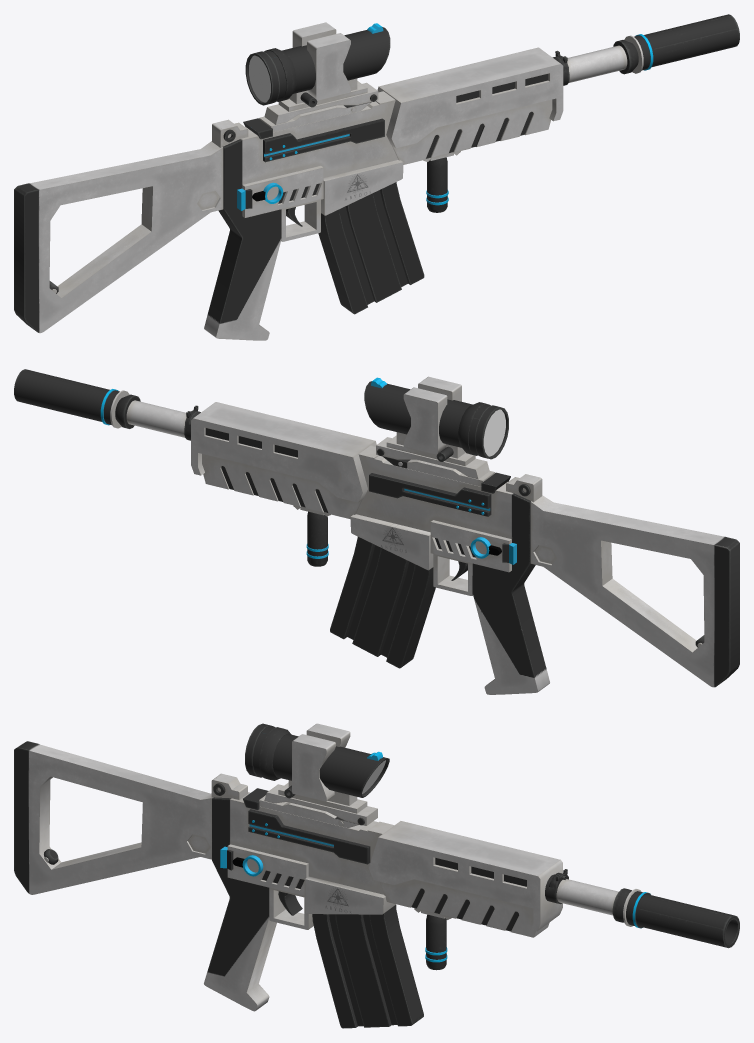
3 views of the same model, one above another, from view 1: azimuth 30°, elevation 25°; view 2: azimuth 150°, elevation 25°; view 3: azimuth 330°, elevation 25° (orthographic).
Visible parts, largest first — view 1: Box007, Box002, Front Part Up, Box006, Shooting Part, Front Part Down, Cylinder002, Cylinder003, Box020, Box011, Box017, Box018 (+4 smaller); view 2: Box007, Box002, Front Part Up, Box006, Shooting Part, Front Part Down, Cylinder002, Cylinder003, Box021, Box024, Box017, Box018 (+4 smaller); view 3: Box007, Box002, Front Part Up, Box006, Shooting Part, Front Part Down, Cylinder002, Box020, Box011, Cylinder003, Box017, Cylinder001 (+4 smaller).
Part boxes in pixels (x1,y1,x2,y2): Box007: (204,91,403,340); Box002: (14,141,223,333); Front Part Up: (377,47,563,148); Box006: (318,182,424,314); Shooting Part: (552,14,739,85); Front Part Down: (392,99,552,164); Cylinder002: (282,27,390,93); Cylinder003: (245,48,296,105); Box020: (263,118,384,162); Box011: (307,33,350,100); Box017: (264,82,378,124); Box018: (259,101,371,132); Box007: (350,445,549,694); Box002: (530,495,739,687); Front Part Up: (191,402,376,502); Box006: (330,537,435,668); Shooting Part: (14,369,200,440); Front Part Down: (202,454,362,519); Cylinder002: (364,381,472,447); Cylinder003: (458,402,508,459); Box021: (369,473,491,516); Box024: (403,387,447,454); Box017: (376,437,489,479); Box018: (382,456,494,486); Box007: (204,792,395,1011); Box002: (14,741,213,894); Front Part Up: (368,821,562,931); Box006: (312,905,423,1028); Shooting Part: (545,869,739,948); Front Part Down: (379,879,549,937); Cylinder002: (273,734,389,797); Box020: (248,809,370,864); Box011: (292,734,335,801); Cylinder003: (245,723,291,780); Box017: (264,784,377,825); Cylinder001: (426,914,446,970).
Bounding box in the file's own units: 1.92 × 0.7365 × 0.1233.
Materials: 1 (1 with a texture image).
